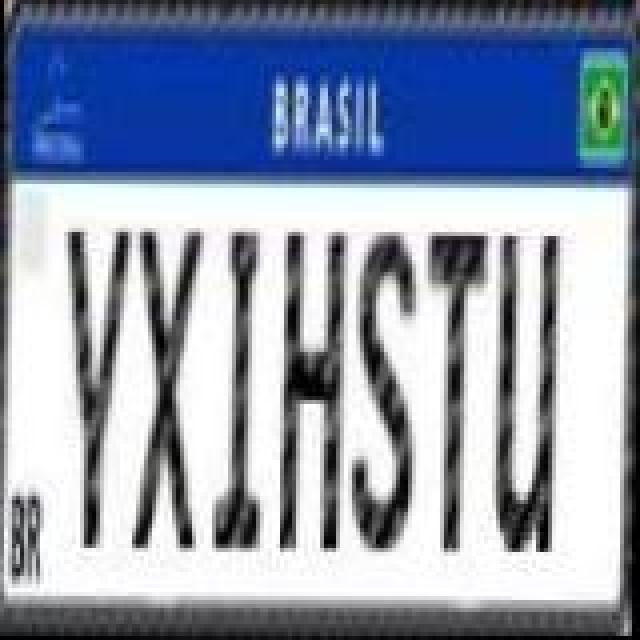H: (276, 228, 348, 552)
I: (216, 226, 272, 550)
S: (350, 224, 418, 560)
T: (420, 230, 484, 554)
U: (490, 230, 558, 554)
X: (132, 228, 204, 552)
Y: (60, 226, 132, 550)
